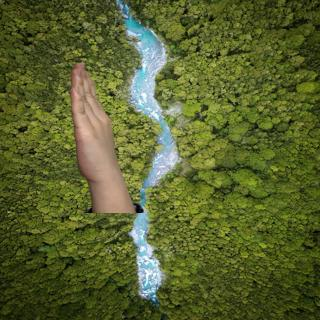RIGHT: (66, 58, 130, 189)
